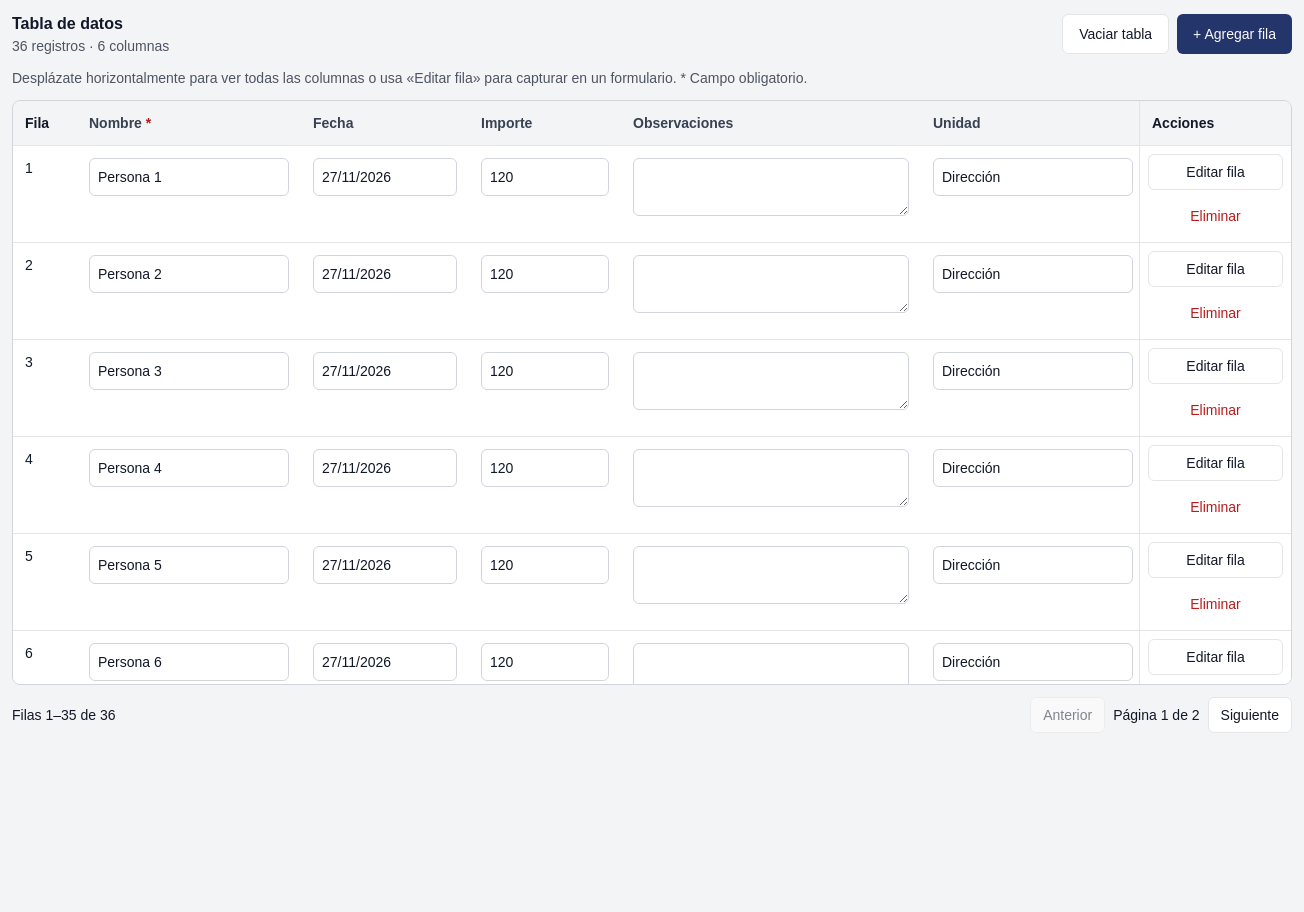
Scenario: conserva la segunda página al escribir y ajusta la página al eliminar su última fila
Click the button "Siguiente".
click(1250, 715)  # box [1208,697,1292,733]
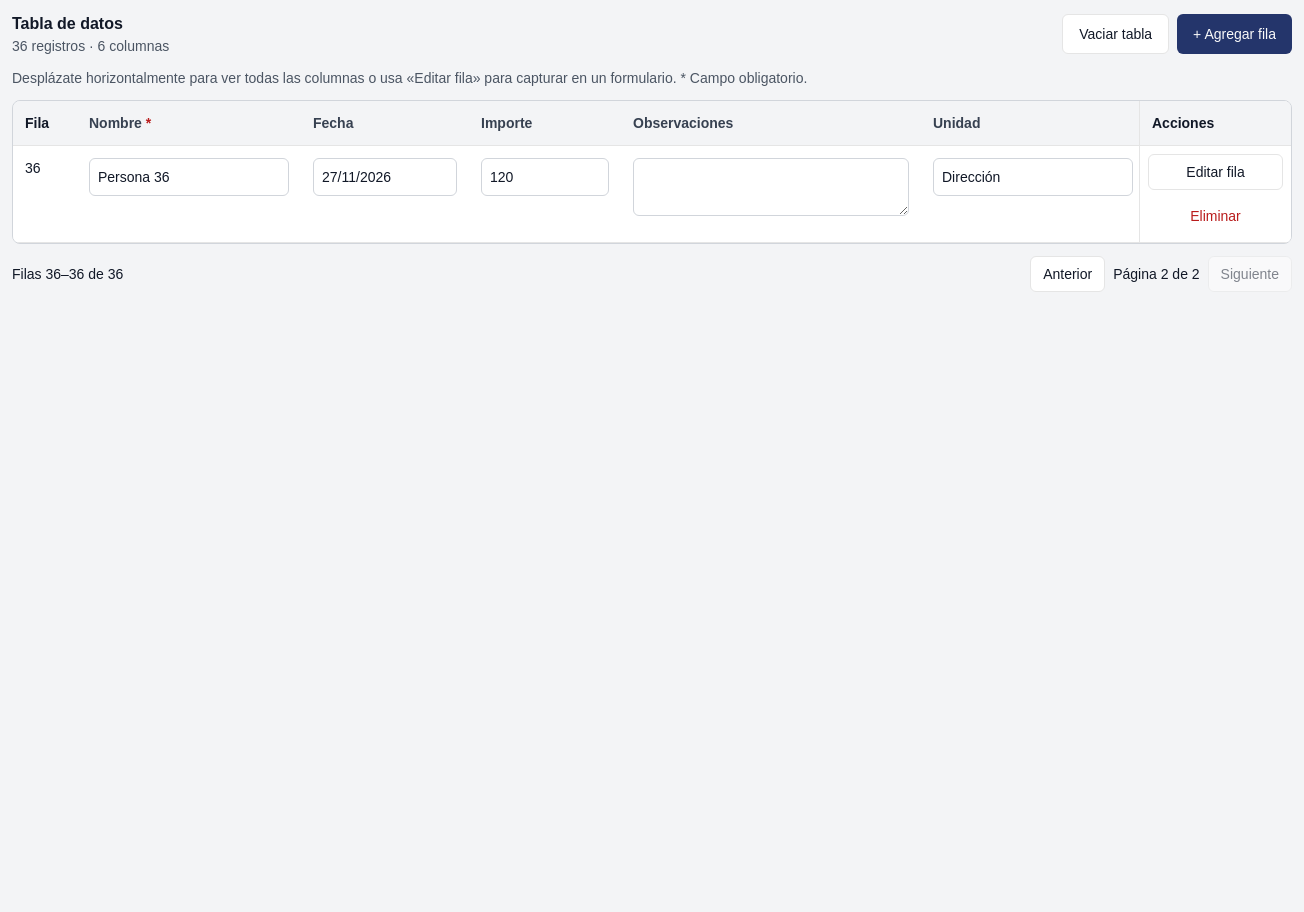
Replace the text in the field named "Nombre, fila 36" with "Editado" at (189, 177), box [89,158,289,196]
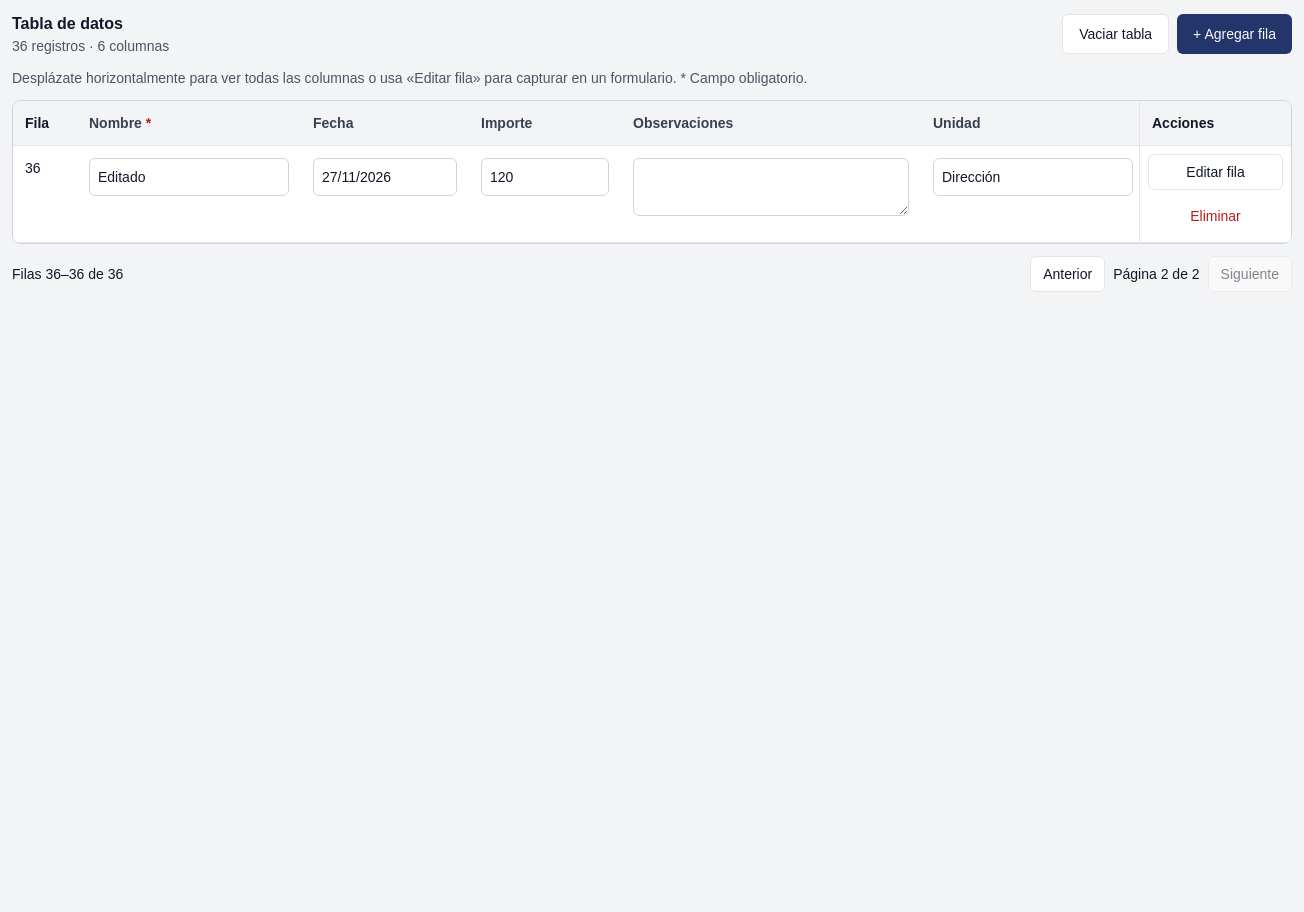
Result: the text "Página 2 de 2" is shown at [1113,264,1200,284]
Click the button with aria-label "Eliminar fila 36".
click(1216, 216)  # box [1148,198,1283,234]
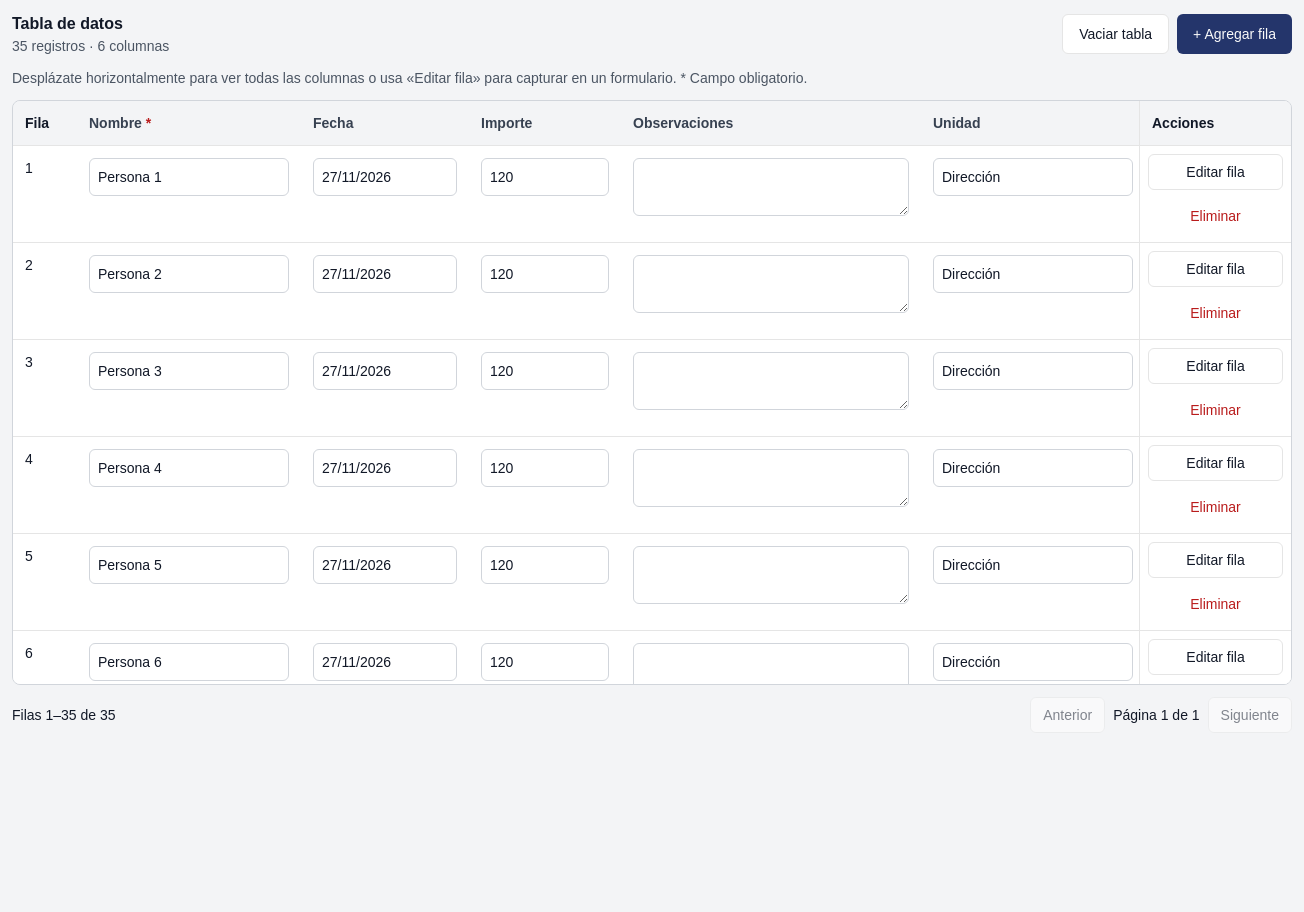
Result: the text "Página 1 de 1" is shown at [1113,705,1200,725]
Result: the text "Filas 1–35 de 35" is shown at [12,705,116,725]
